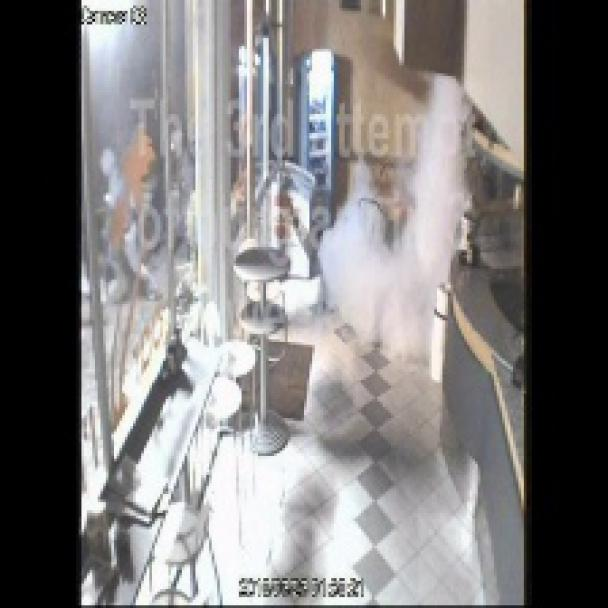smoke: (304, 80, 475, 425)
